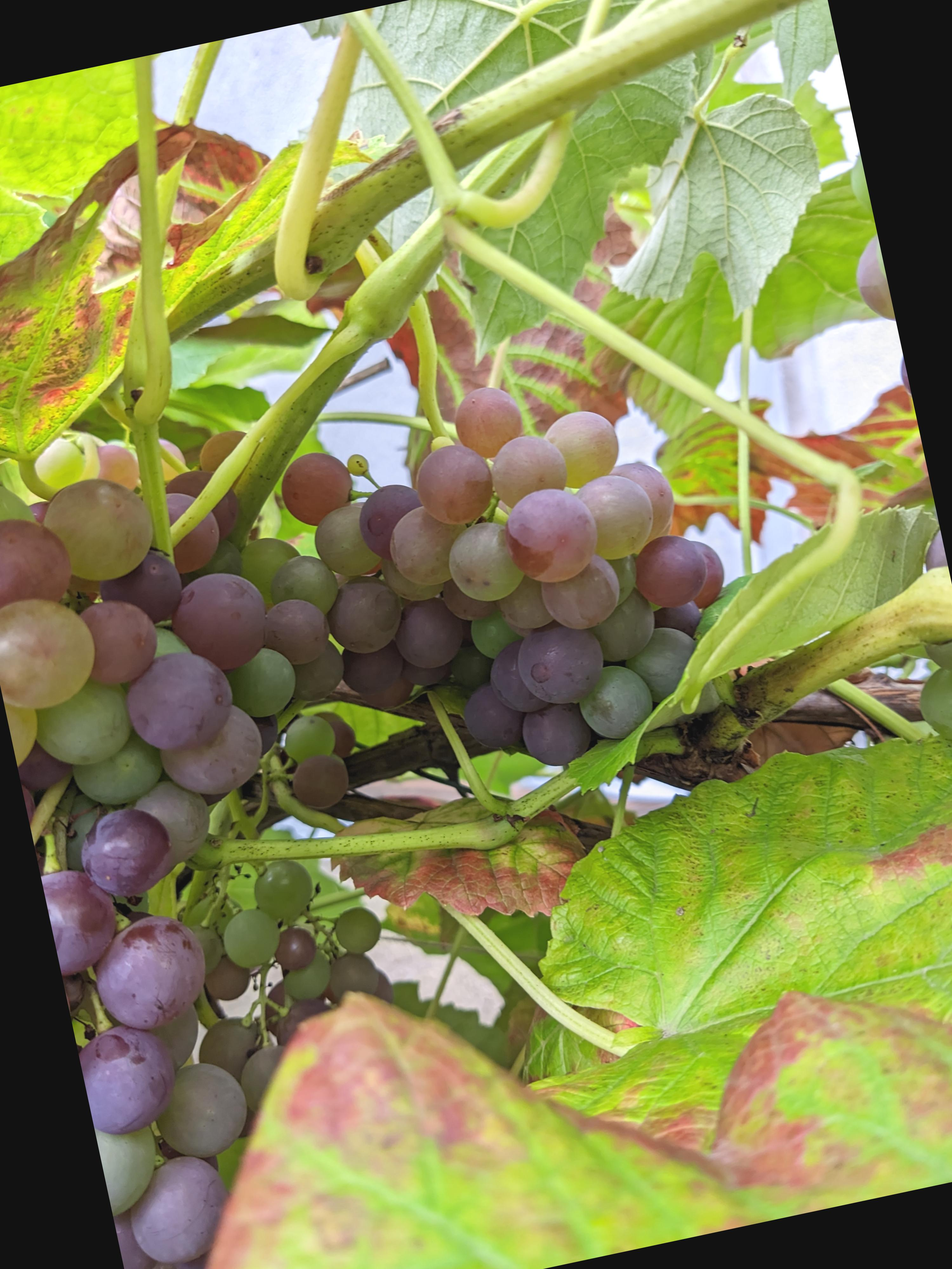Grape Unripe: (0, 518, 363, 1269), (215, 426, 660, 951)
